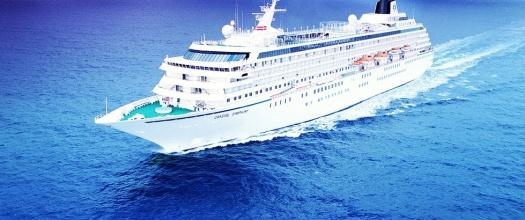youlun: (98, 1, 432, 156)
